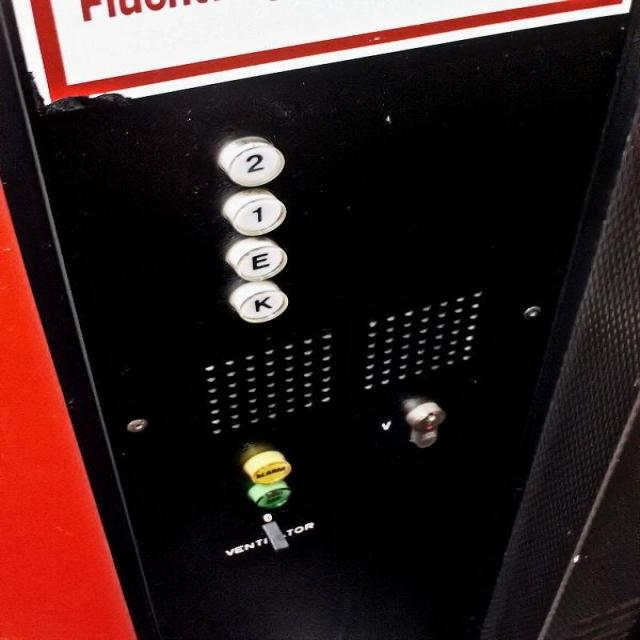1: (218, 186, 288, 237)
2: (213, 134, 288, 187)
E: (220, 235, 288, 281)
K: (224, 281, 289, 324)
keyhole: (401, 400, 446, 450)
text: (240, 449, 292, 483), (244, 483, 291, 509)
